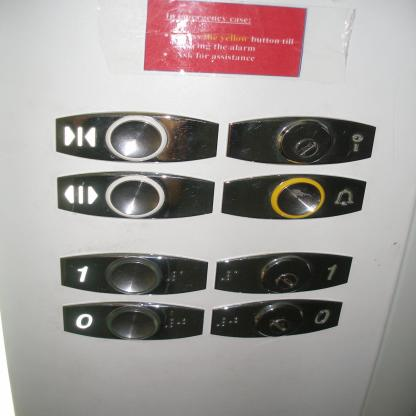0: (61, 298, 209, 342), (209, 297, 345, 340)
1: (57, 250, 212, 296), (213, 249, 355, 297)
alarm: (220, 170, 372, 222)
close: (53, 109, 220, 164), (52, 168, 220, 221)
key: (225, 113, 379, 168)
